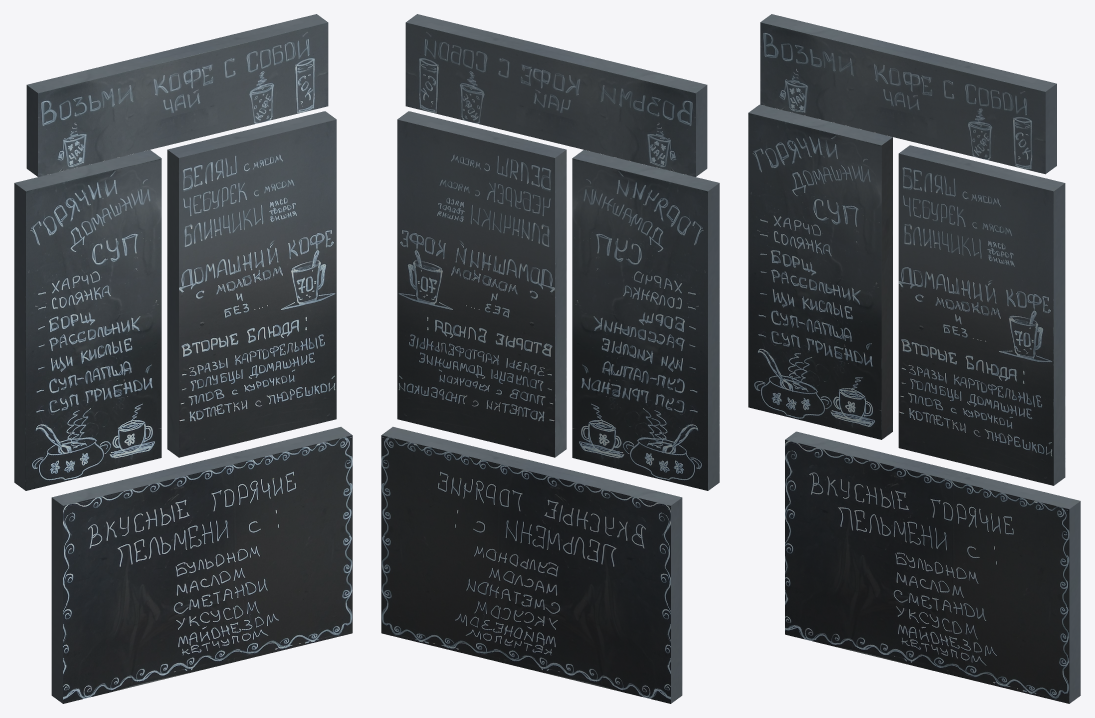
Rendered from menu_pared.glb.
The picture shows the model from 3 angles, left to right: view 1: azimuth 30°, elevation 25°; view 2: azimuth 150°, elevation 25°; view 3: azimuth 330°, elevation 25°; orthographic projection.
Parts seen in each view (by area): view 1: Menu; view 2: Menu; view 3: Menu.
Part boxes in pixels (<box>): Menu: <box>14,14,352,703</box>; Menu: <box>381,14,719,703</box>; Menu: <box>748,14,1080,703</box>.
Bounding box in the file's own units: 0.8148 × 1.47 × 0.05.
1 material, 1 textured.
